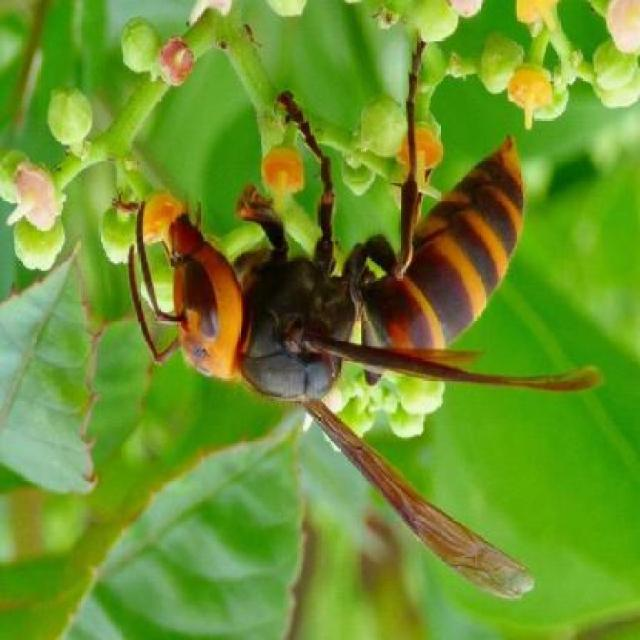Wasp: (116, 30, 606, 608)
